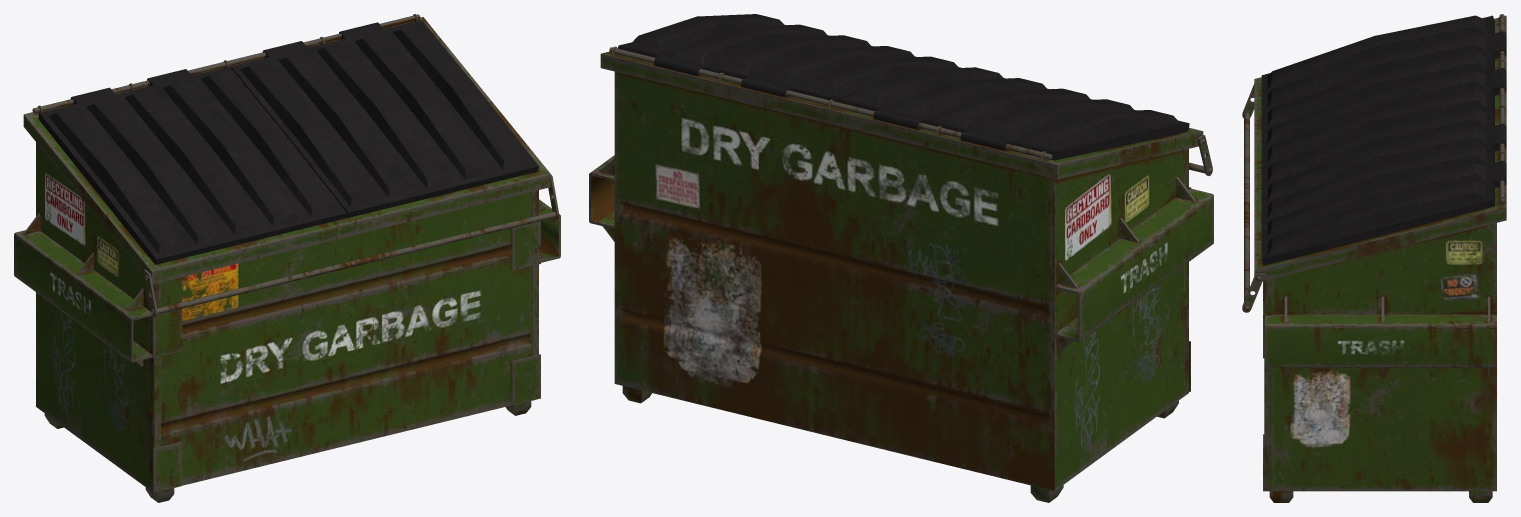
The model's file is dumpster.glb.
3 views of the same model, side by side, from view 1: azimuth 30°, elevation 25°; view 2: azimuth 150°, elevation 25°; view 3: azimuth 270°, elevation 25° (orthographic). The views are drawn at different scales.
Parts seen in each view (by area): view 1: Dumpster_low_M_Dumpster_0; view 2: Dumpster_low_M_Dumpster_0; view 3: Dumpster_low_M_Dumpster_0.
Boxes of the visible parts, x1,y1,x2,y2 form: Dumpster_low_M_Dumpster_0: (14, 14, 560, 502); Dumpster_low_M_Dumpster_0: (589, 14, 1213, 502); Dumpster_low_M_Dumpster_0: (1242, 14, 1506, 502).
Bounding box in the file's own units: 1.85 × 1.3 × 1.
Materials: 1 (1 with a texture image).
